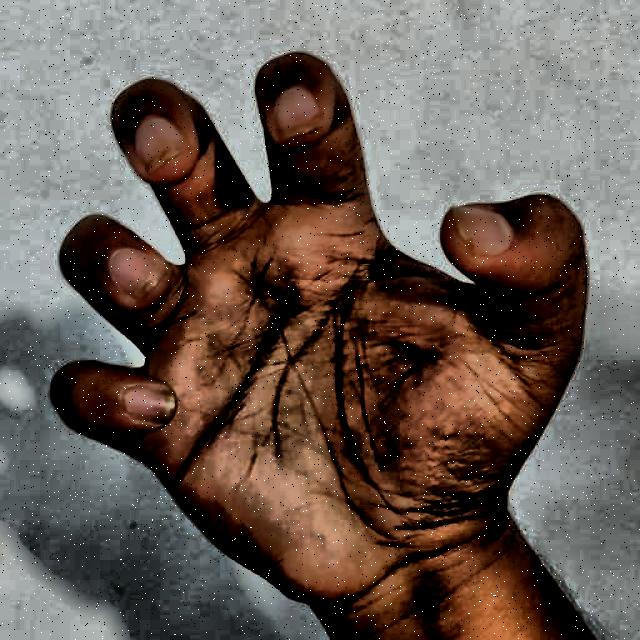Ja: (39, 30, 605, 634)
